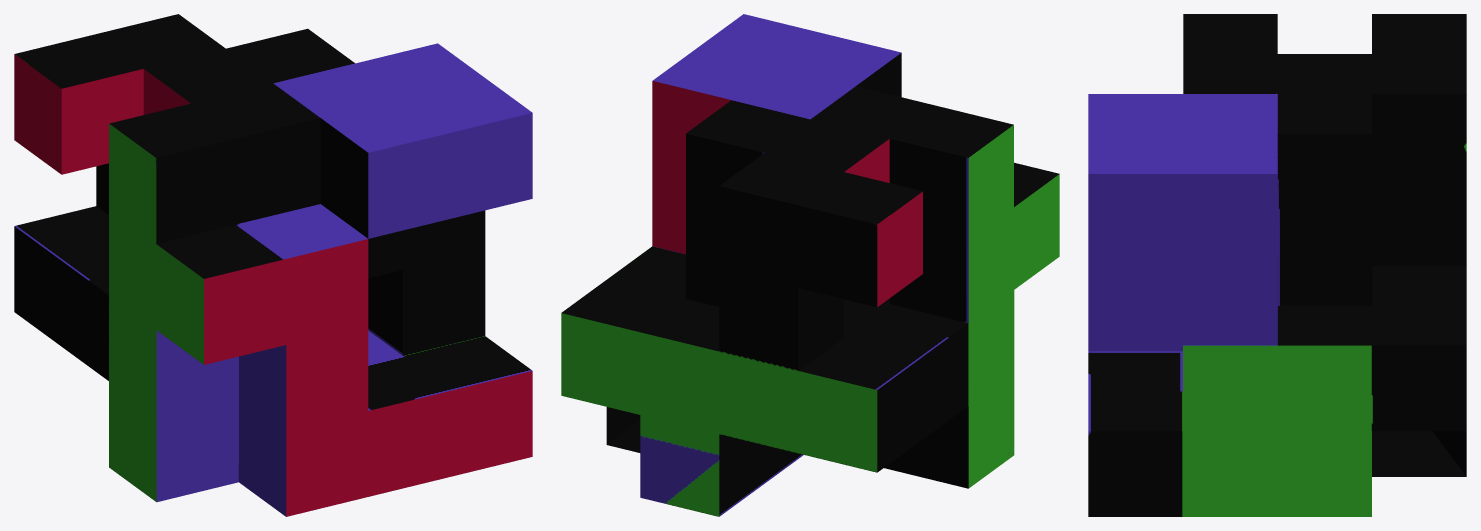
The model's file is ied.glb.
3 views of the same model, side by side, from view 1: azimuth 30°, elevation 25°; view 2: azimuth 150°, elevation 25°; view 3: azimuth 270°, elevation 25° (orthographic). The views are drawn at different scales.
Visible parts, largest first — view 1: Cube; view 2: Cube; view 3: Cube.
Boxes of the visible parts, x1,y1,x2,y2 form: Cube: (14,14,532,516); Cube: (561,14,1059,516); Cube: (1088,14,1466,516).
Bounding box in the file's own units: 4 × 4 × 4.
1 material, 1 textured.
